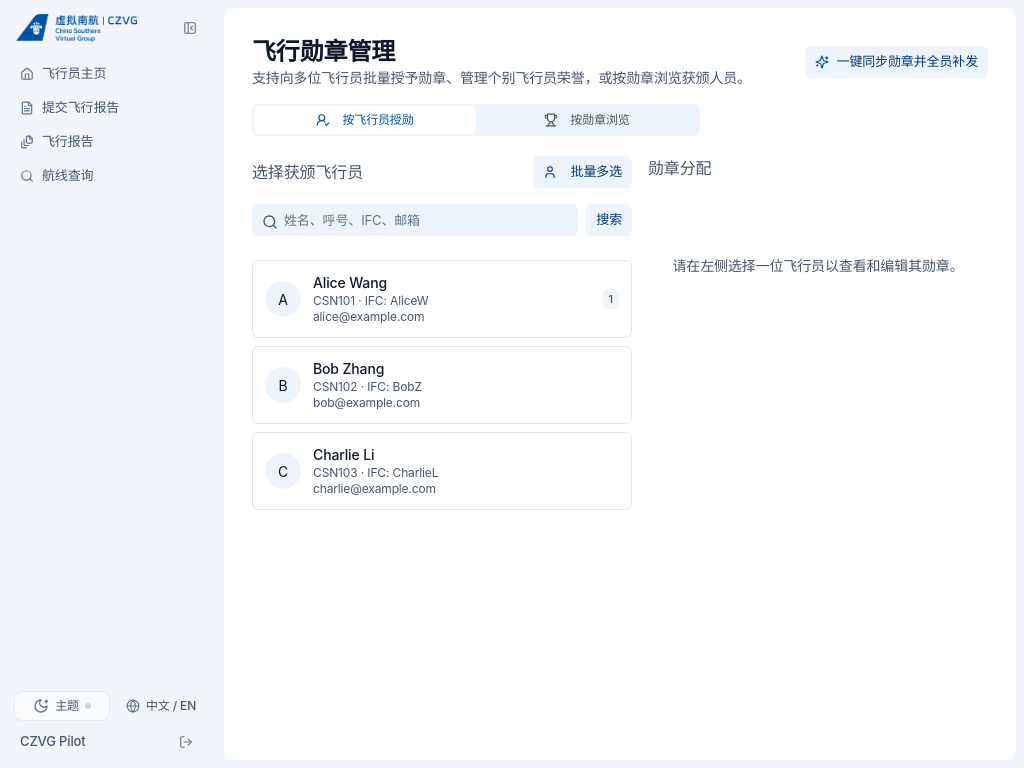
Scenario: PilotAwardsPage self-acceptance › renders full Chinese localization when locale is zh
The width and height of the screenshot is (1024, 768).
Click the button "批量多选". click: coordinates (582, 172)
box: [532,156,632,188]
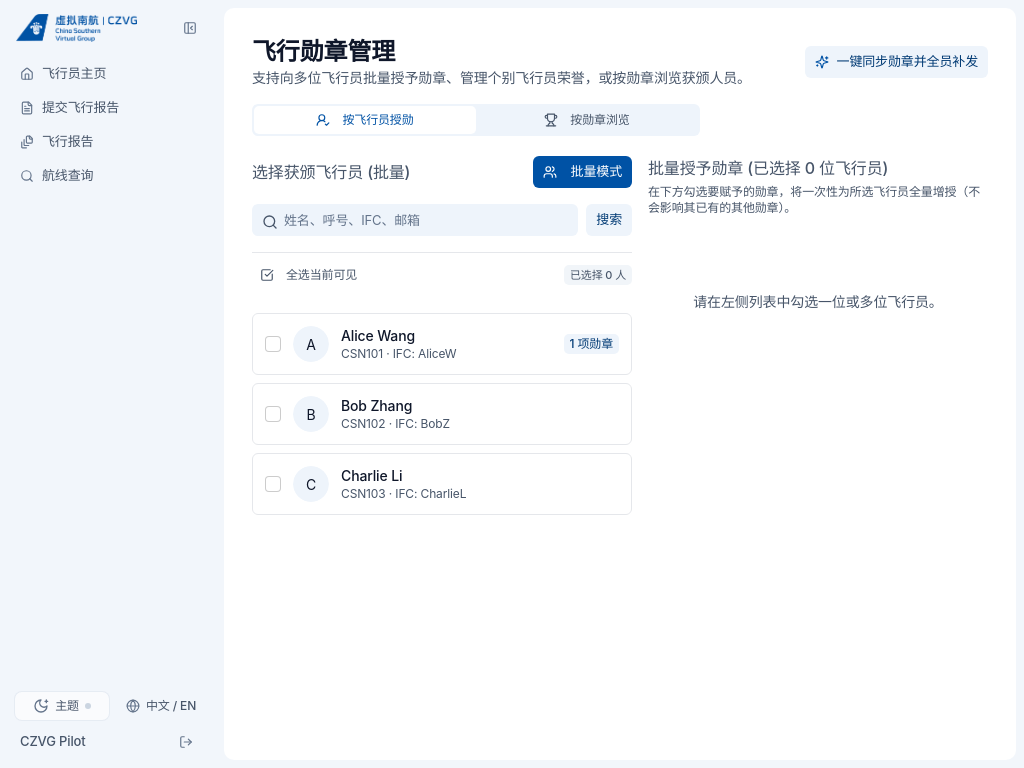
Expected: the text "批量授予勋章" is shown, [252,69,751,86]
Result: the text "批量模式" is shown at [532,156,632,188]
Result: the text "全选当前可见" is shown at [252,261,365,289]
